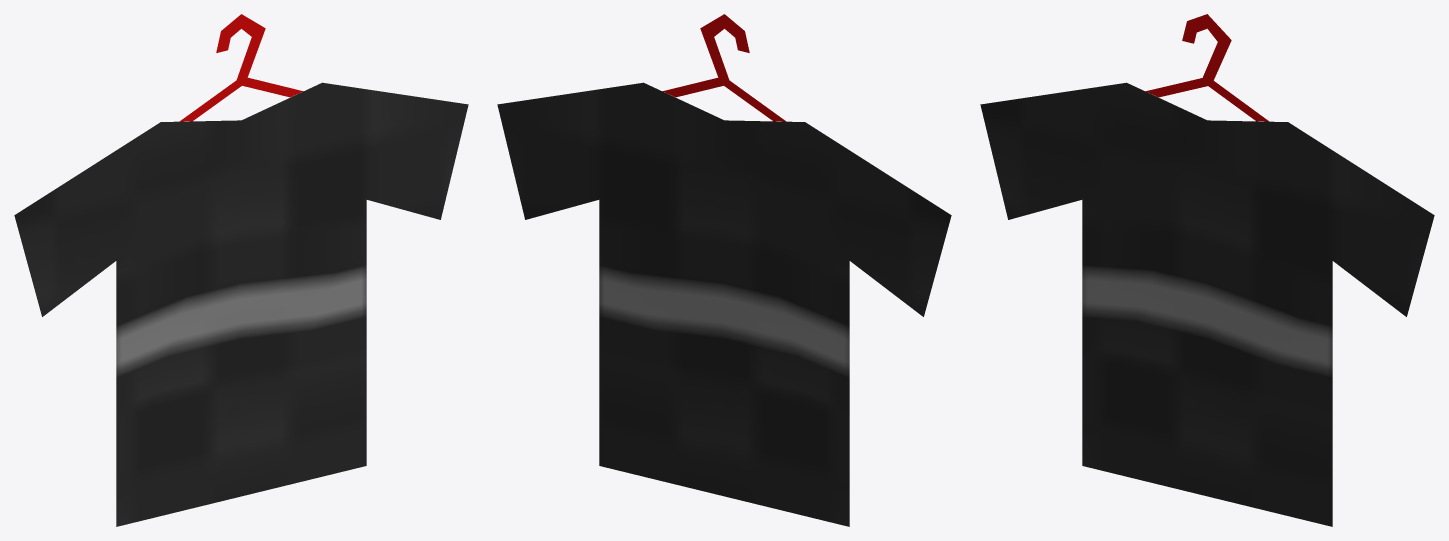
The model's file is Shirt_2.fbx.
3 views of the same model, side by side, from view 1: azimuth 30°, elevation 25°; view 2: azimuth 150°, elevation 25°; view 3: azimuth 330°, elevation 25° (orthographic).
Visible parts, largest first — view 1: Maya_File_Assets:TexturedAssetsCurrent:Hanifen_Quinton_Week7; view 2: Maya_File_Assets:TexturedAssetsCurrent:Hanifen_Quinton_Week7; view 3: Maya_File_Assets:TexturedAssetsCurrent:Hanifen_Quinton_Week7.
Boxes of the visible parts, x1,y1,x2,y2 form: Maya_File_Assets:TexturedAssetsCurrent:Hanifen_Quinton_Week7: (14, 14, 468, 526); Maya_File_Assets:TexturedAssetsCurrent:Hanifen_Quinton_Week7: (497, 14, 951, 526); Maya_File_Assets:TexturedAssetsCurrent:Hanifen_Quinton_Week7: (980, 14, 1434, 526).
Size of the model in its own units: 0.7332 by 0.7441 by 6.42e-14.
